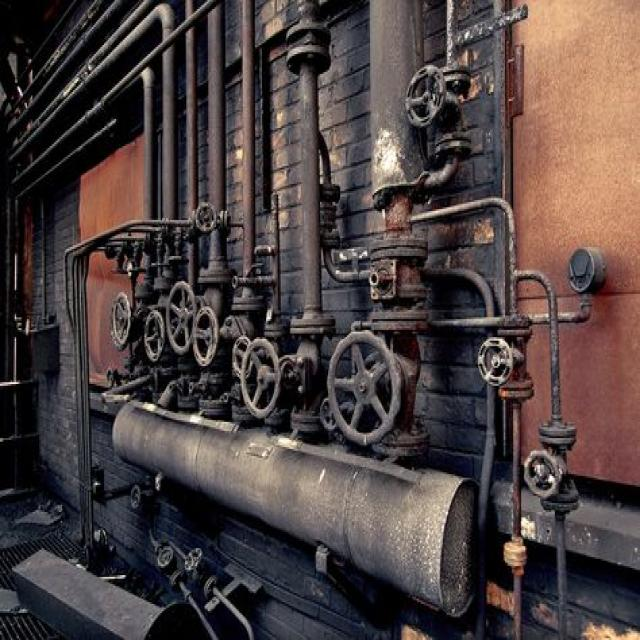Wheel Handle Valve Threaded: (327, 318, 434, 455), (242, 324, 326, 434), (167, 276, 232, 352), (527, 423, 579, 515), (194, 305, 262, 373), (112, 290, 158, 352), (146, 307, 190, 366)
